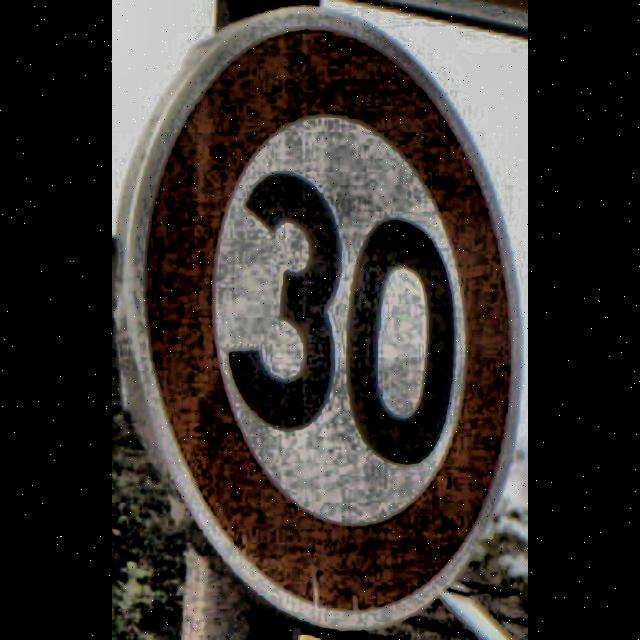speed_30: (138, 15, 520, 617)
